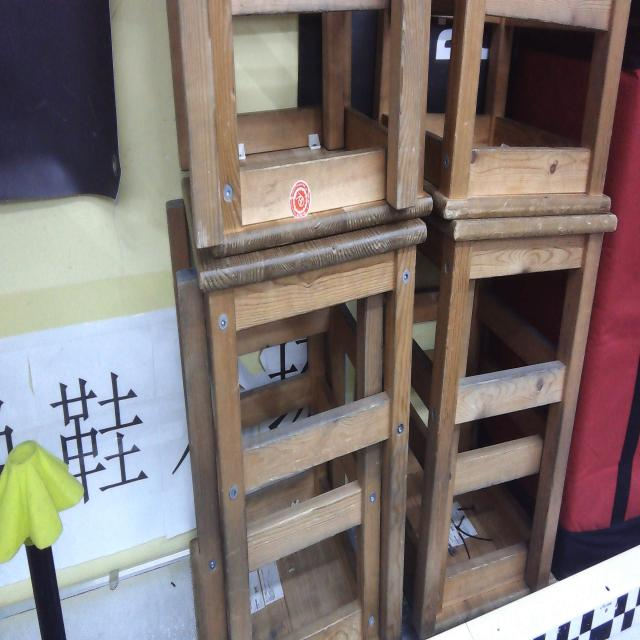Yellow-Stake-Head: (0, 442, 84, 564)
